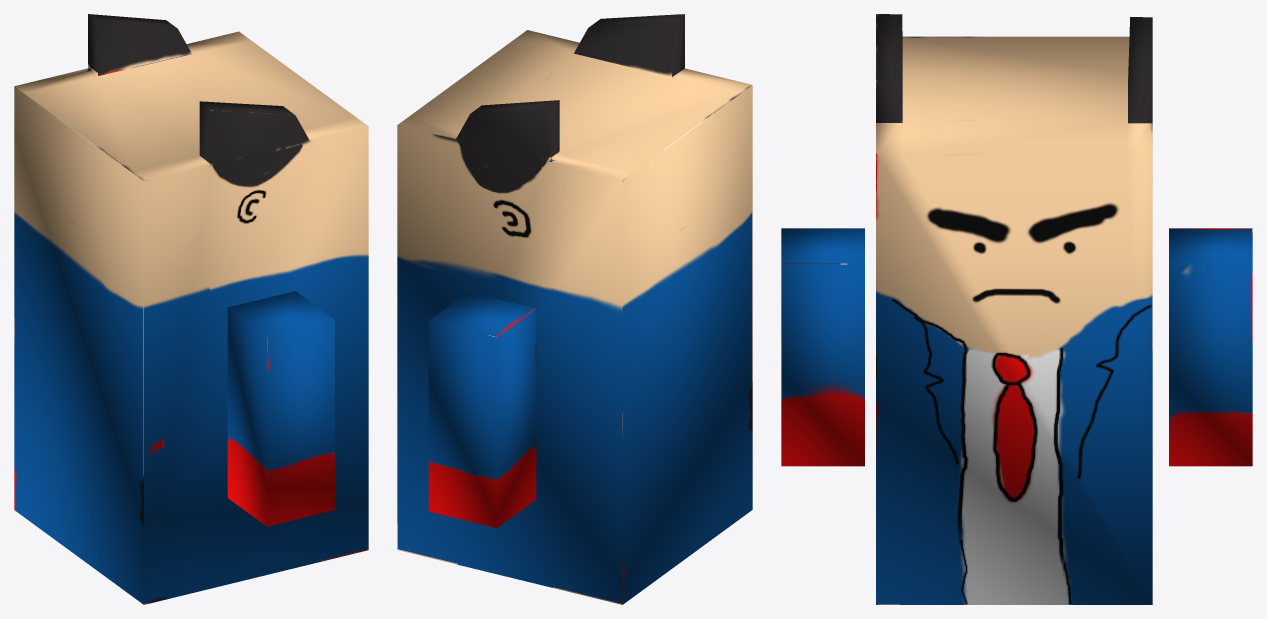
Rendered from boss.fbx.
3 views of the same model, side by side, from view 1: azimuth 30°, elevation 25°; view 2: azimuth 150°, elevation 25°; view 3: azimuth 270°, elevation 25° (orthographic). The views are drawn at different scales.
Parts seen in each view (by area): view 1: BossMesh; view 2: BossMesh; view 3: BossMesh.
Boxes of the visible parts, x1,y1,x2,y2 form: BossMesh: (14,14,368,604); BossMesh: (397,14,752,604); BossMesh: (781,14,1252,604).
Bounding box in the file's own units: 2 × 4.06 × 3.41.
Materials: 1 (1 with a texture image).
